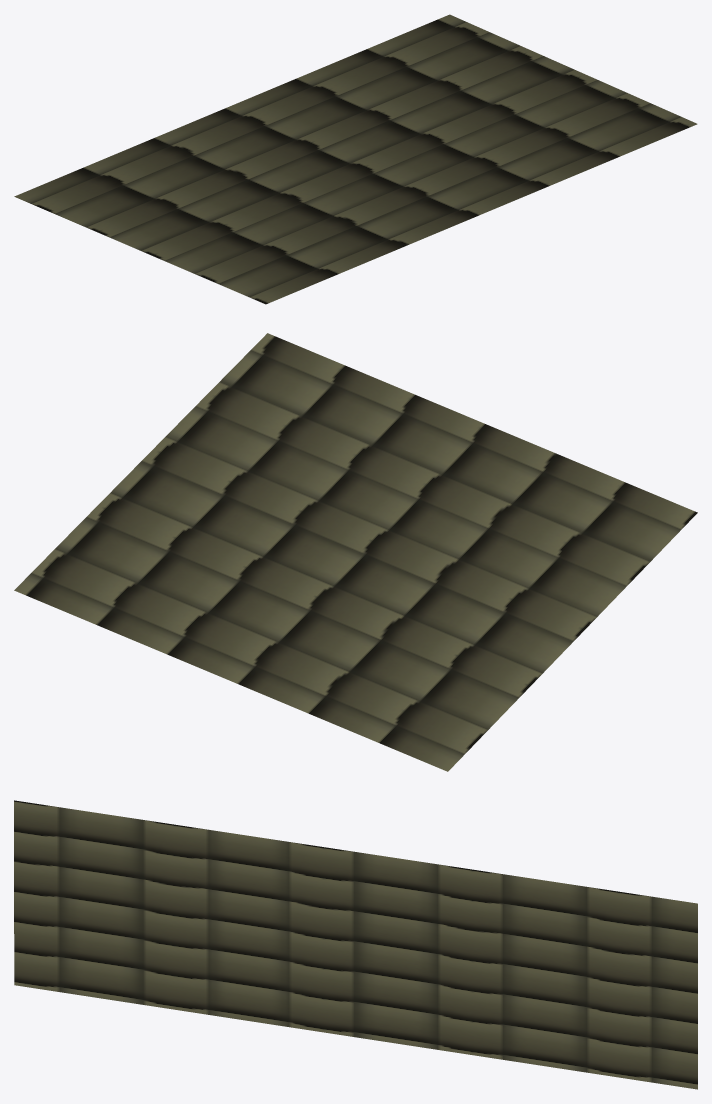
Rendered from NNJ0510066.fbx.
3 views of the same model, one above another, from view 1: azimuth 30°, elevation 25°; view 2: azimuth 150°, elevation 25°; view 3: azimuth 270°, elevation 25° (orthographic). The views are drawn at different scales.
Visible parts, largest first — view 1: smNNJ0510066; view 2: smNNJ0510066; view 3: smNNJ0510066.
Boxes of the visible parts, bbox=[...] form: smNNJ0510066: bbox=[14, 14, 697, 304]; smNNJ0510066: bbox=[14, 333, 697, 771]; smNNJ0510066: bbox=[14, 800, 697, 1089].
Bounding box in the file's own units: 276 × 91.55 × 276.
1 material, 1 textured.
